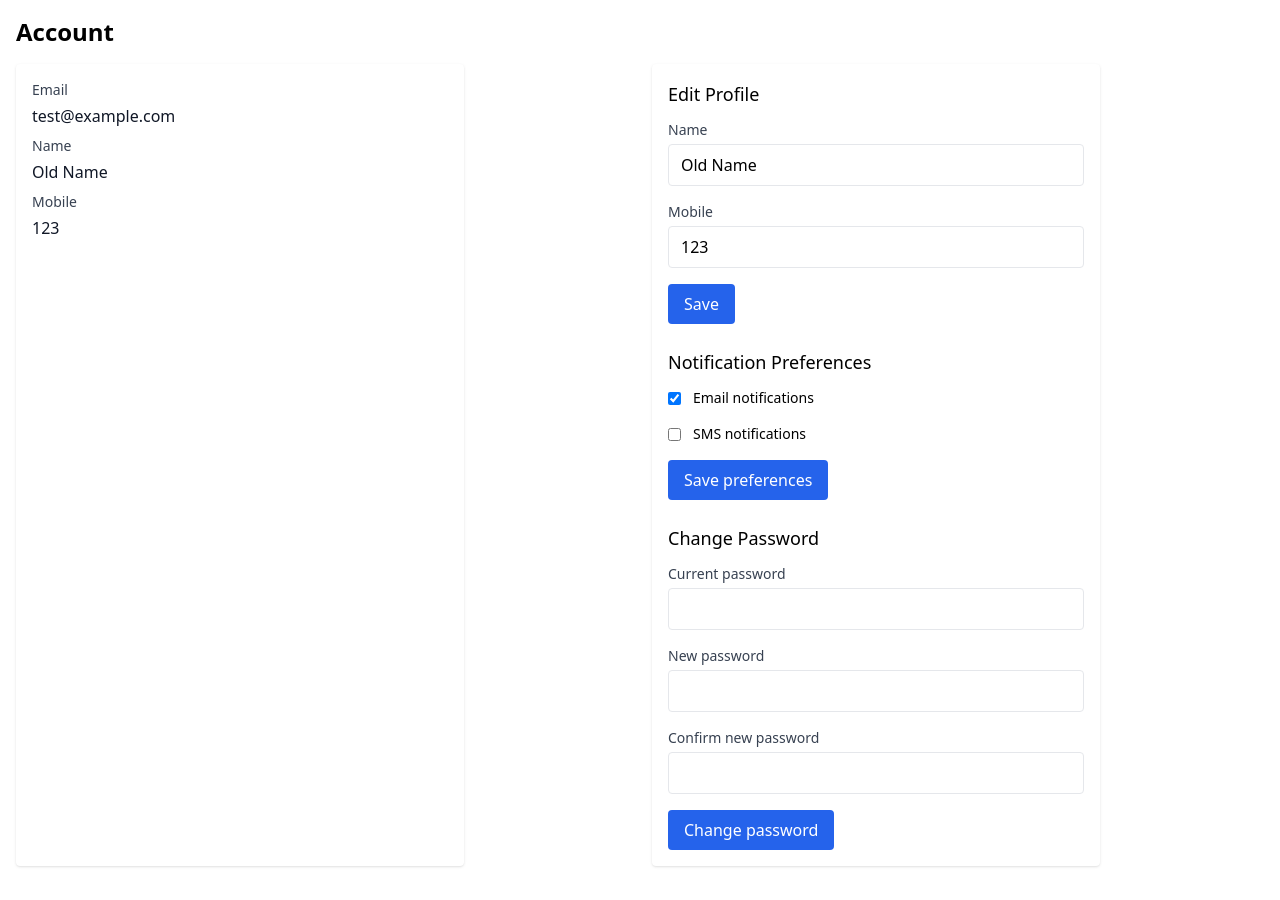
Test: Account page › renders user info and updates profile
Expected: the text "test@example.com" is shown, [32, 105, 175, 127]
# change name (use fireEvent to avoid user-event dependency)
Replace the text in the field labelled "Name" with "New Name" at [876, 165], box [668, 144, 1084, 186]
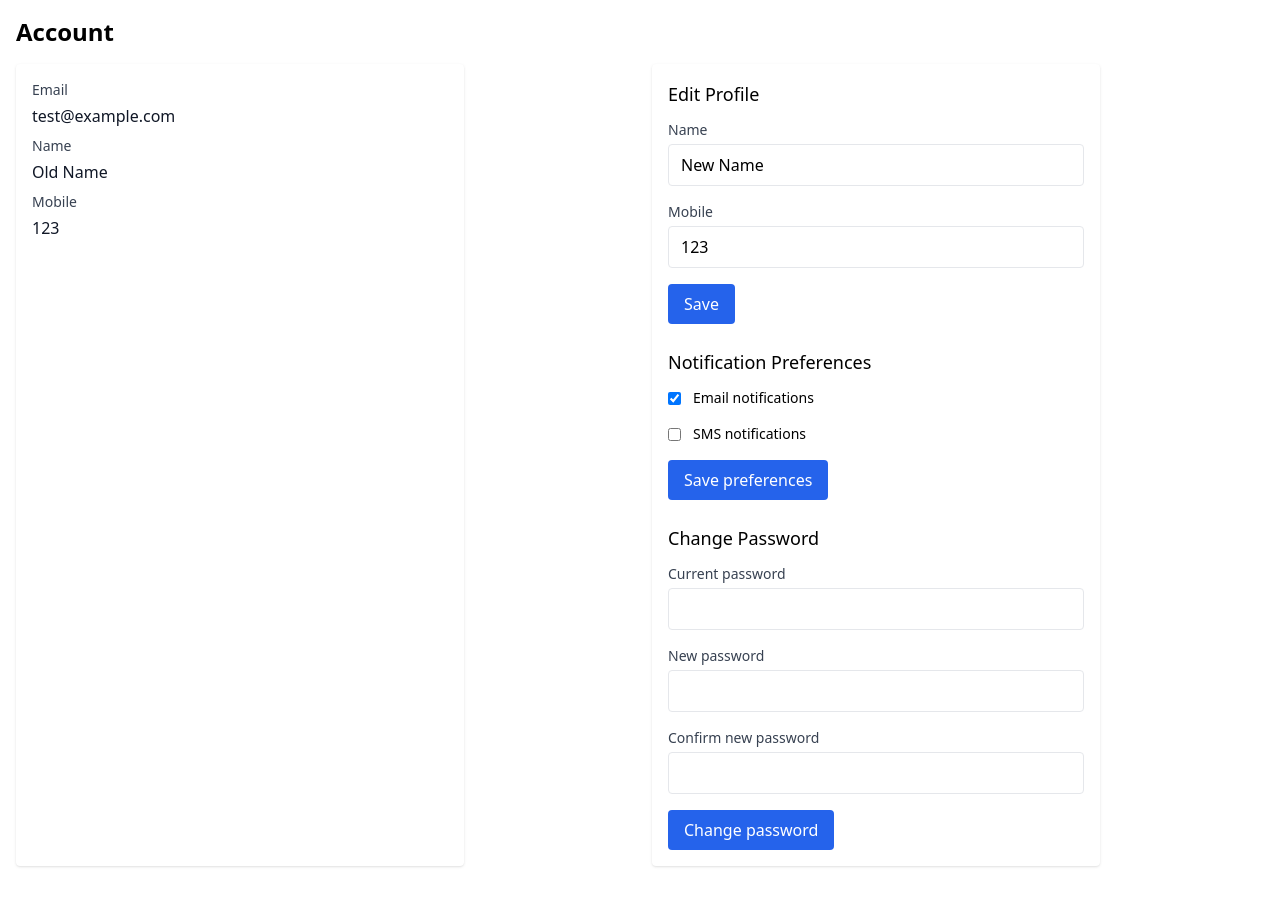
# find the profile form via the name input and target the exact "Save" button inside it
Click the button "Save".
click(701, 304)  # box [668, 284, 735, 324]
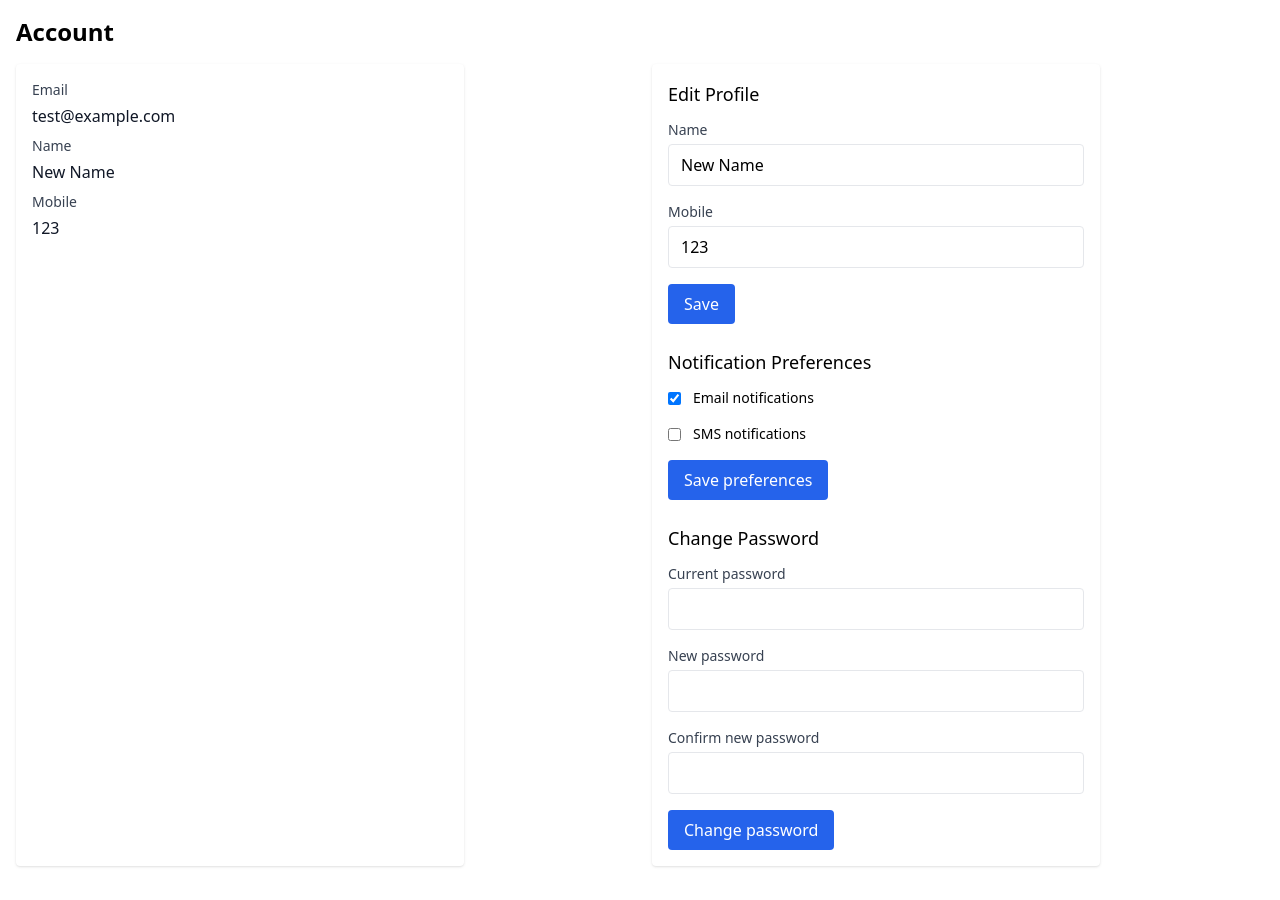
Result: the text "New Name" is shown at [32, 161, 115, 183]
